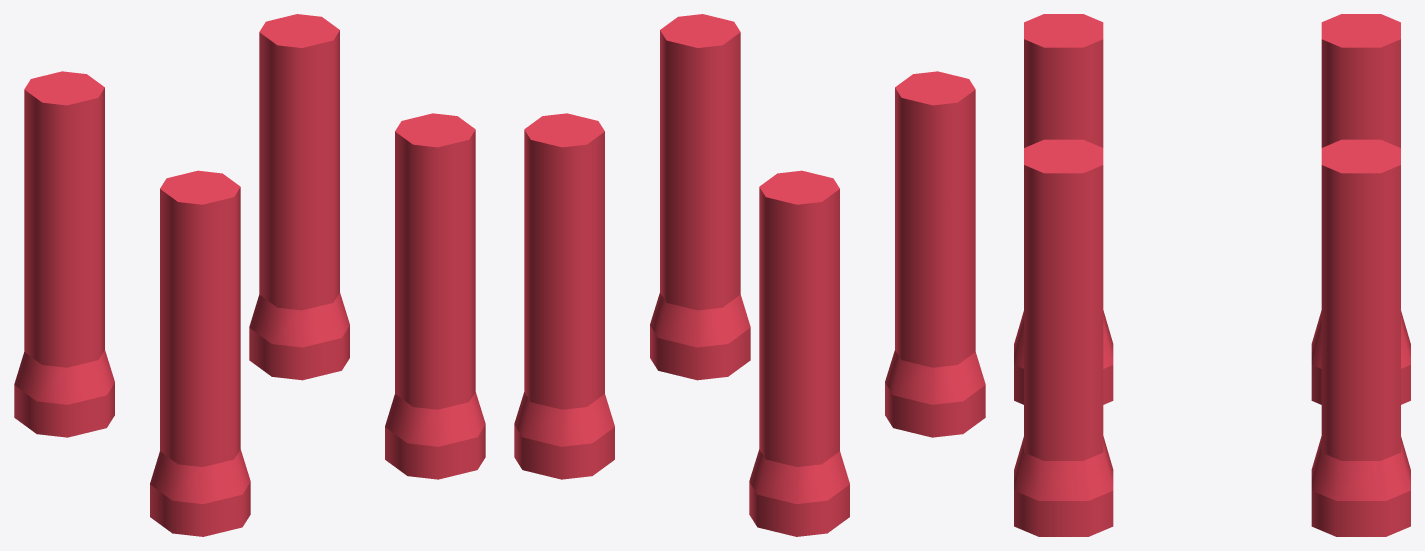
Rendered from supports_bottom.fbx.
The picture shows the model from 3 angles, left to right: view 1: azimuth 30°, elevation 25°; view 2: azimuth 150°, elevation 25°; view 3: azimuth 270°, elevation 25°; orthographic projection. The views are drawn at different scales.
Parts seen in each view (by area): view 1: supports_bottom; view 2: supports_bottom; view 3: supports_bottom.
Part boxes in pixels (x1,y1,x2,y2): supports_bottom: (14, 14, 485, 536); supports_bottom: (514, 14, 985, 536); supports_bottom: (1014, 14, 1410, 536).
Size of the model in its own units: 10 by 10 by 10.
